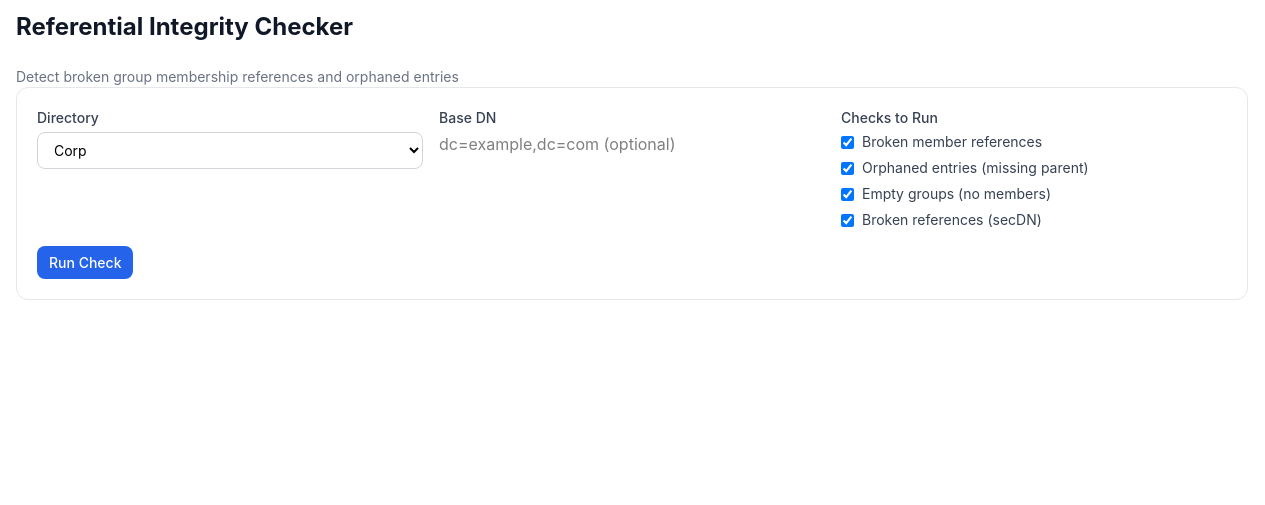
it: IntegrityCheckView › offers the directory's reference check (secDN), ticked, and lists what it finds without a remove box
Check: the label "Broken references (secDN)" is shown, box [841,211,1042,228]
Check: the checkbox labelled "Broken references (secDN)" is checked, box [841,214,854,226]
Step 1. Click the button "Run Check" → (85, 262), box [37,246,134,279]
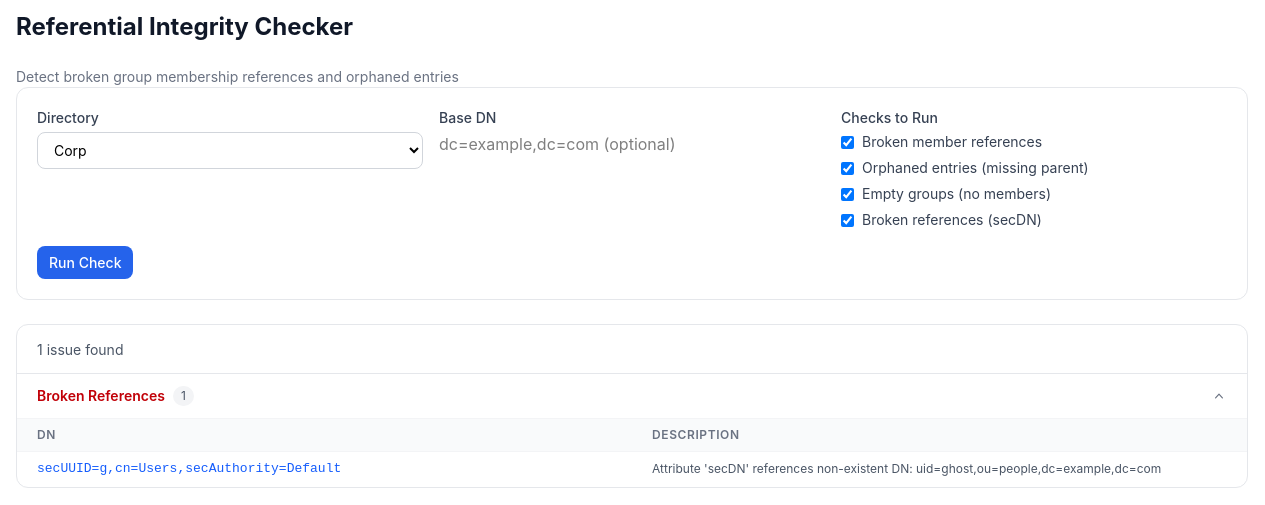
Check: the text "Broken references" is shown, box [862,211,1042,228]
Check: the text "uid=ghost,ou=people,dc=example,dc=com" is shown, box [652,461,1161,476]
